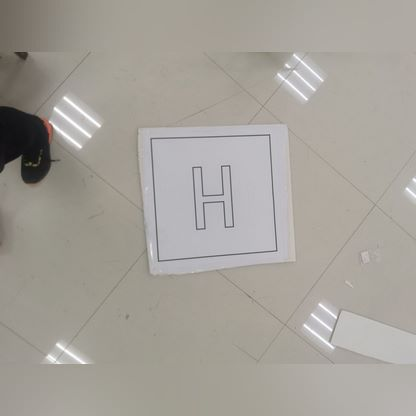H: (171, 151, 255, 237)
